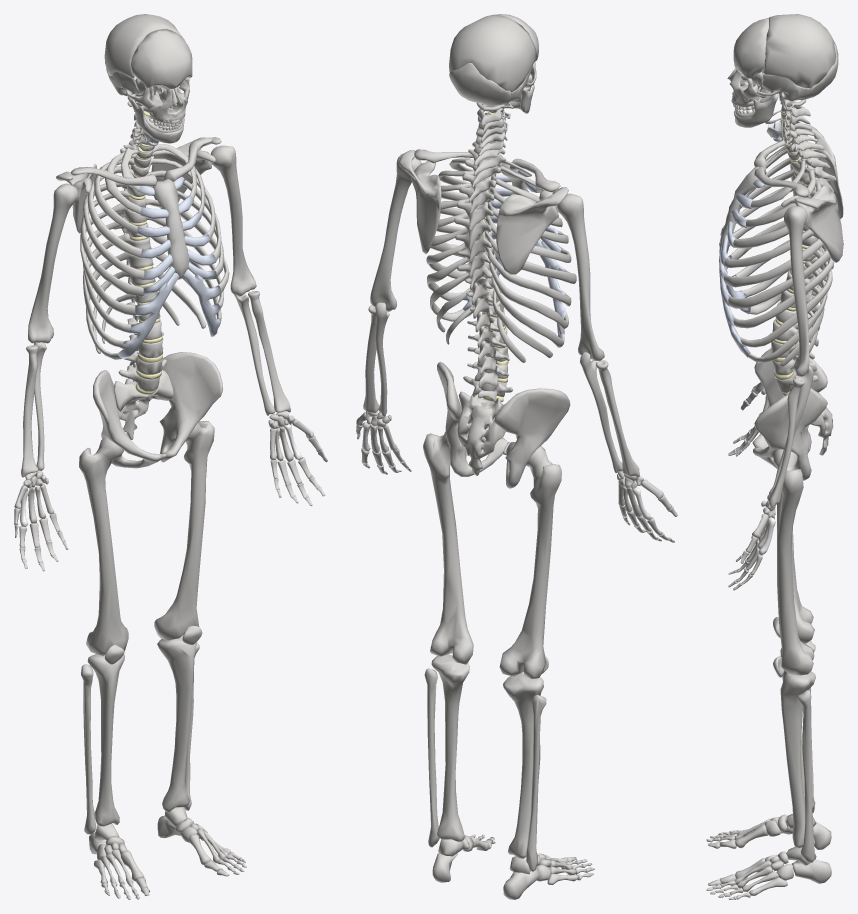
Rendered from skeleton.glb.
The picture shows the model from 3 angles, left to right: view 1: azimuth 30°, elevation 25°; view 2: azimuth 150°, elevation 25°; view 3: azimuth 270°, elevation 25°; orthographic projection. The views are drawn at different scales.
Parts seen in each view (by area): view 1: Femur, Pubic, FMA24478_grp1, Costal Cartilage, Humerus, Bones96, Frontal, Radius, Parietal, FMA24481_grp1, Bones92, Bones94 (+12 smaller); view 2: Femur, FMA24478_grp1, Pubic, Bones94, Bones96, Humerus, Parietal, FMA24481_grp1, Sacrum.001, Radius, Bones92, Occipital (+8 smaller); view 3: Femur, Bones96, Parietal, Pubic, FMA24478_grp1, Bones94, Humerus, Costal Cartilage, FMA24481_grp1, Frontal, Radius, 6th Rib (+19 smaller).
Boxes of the visible parts, bbox=[...] form: Femur: bbox=[79, 421, 214, 655]; Pubic: bbox=[93, 352, 222, 468]; FMA24478_grp1: bbox=[87, 634, 197, 826]; Costal Cartilage: bbox=[118, 176, 221, 358]; Humerus: bbox=[28, 145, 256, 343]; Bones96: bbox=[80, 199, 229, 359]; Frontal: bbox=[130, 29, 192, 89]; Radius: bbox=[21, 291, 290, 477]; Parietal: bbox=[104, 14, 185, 78]; FMA24481_grp1: bbox=[81, 642, 199, 834]; Bones92: bbox=[34, 294, 274, 471]; Bones94: bbox=[56, 137, 221, 233]; Femur: bbox=[423, 431, 561, 678]; FMA24478_grp1: bbox=[431, 654, 543, 858]; Pubic: bbox=[437, 361, 570, 488]; Bones94: bbox=[399, 150, 568, 274]; Bones96: bbox=[426, 228, 576, 347]; Humerus: bbox=[370, 153, 604, 360]; Parietal: bbox=[449, 14, 535, 92]; FMA24481_grp1: bbox=[424, 668, 546, 871]; Sacrum.001: bbox=[457, 391, 505, 475]; Radius: bbox=[363, 305, 639, 477]; Bones92: bbox=[375, 302, 622, 473]; Occipital: bbox=[449, 62, 511, 105]; Femur: bbox=[773, 449, 814, 675]; Bones96: bbox=[728, 221, 834, 362]; Parietal: bbox=[761, 14, 836, 88]; Pubic: bbox=[752, 348, 827, 480]; FMA24478_grp1: bbox=[780, 640, 815, 848]; Bones94: bbox=[781, 124, 843, 262]; Humerus: bbox=[784, 141, 809, 376]; Costal Cartilage: bbox=[719, 162, 766, 357]; FMA24481_grp1: bbox=[797, 687, 814, 862]; Frontal: bbox=[733, 18, 769, 78]; Radius: bbox=[767, 377, 804, 507]; 6th Rib: bbox=[724, 204, 823, 287].
Size of the model in its own units: 6.65 by 17.05 by 2.5.
